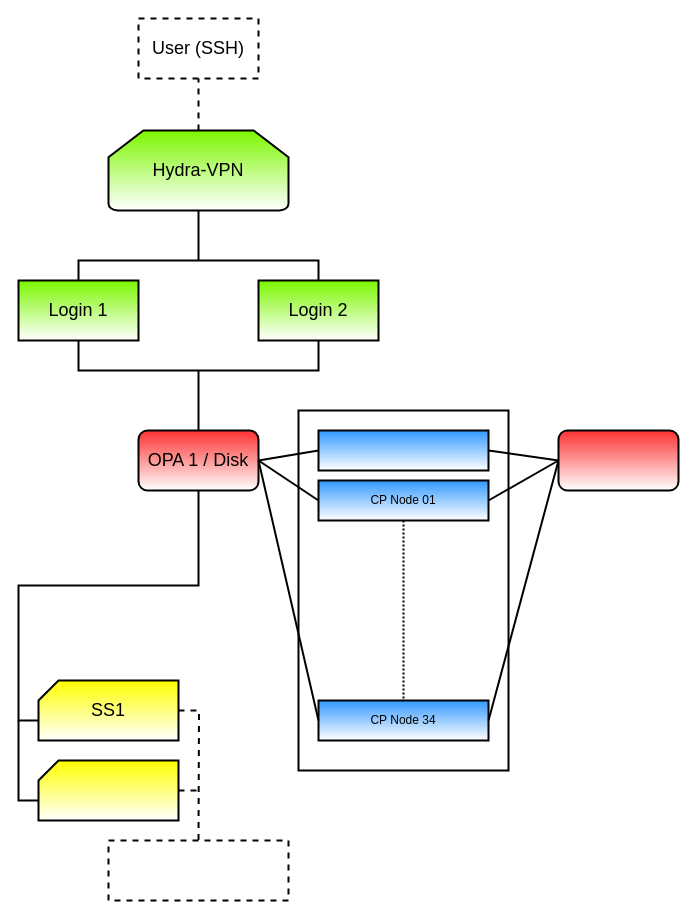
The diagram is 696 pixels wide and 918 high, and some of its shapes have lost their labels. The centre of each missing label's shape, as x and y in pixels:
"CP Node 00" belongs at pixel 403 450.
"OPA 1 / MPI" belongs at pixel 618 460.
"SS2" belongs at pixel 108 790.
"Storage (Disk Array)" belongs at pixel 198 870.
